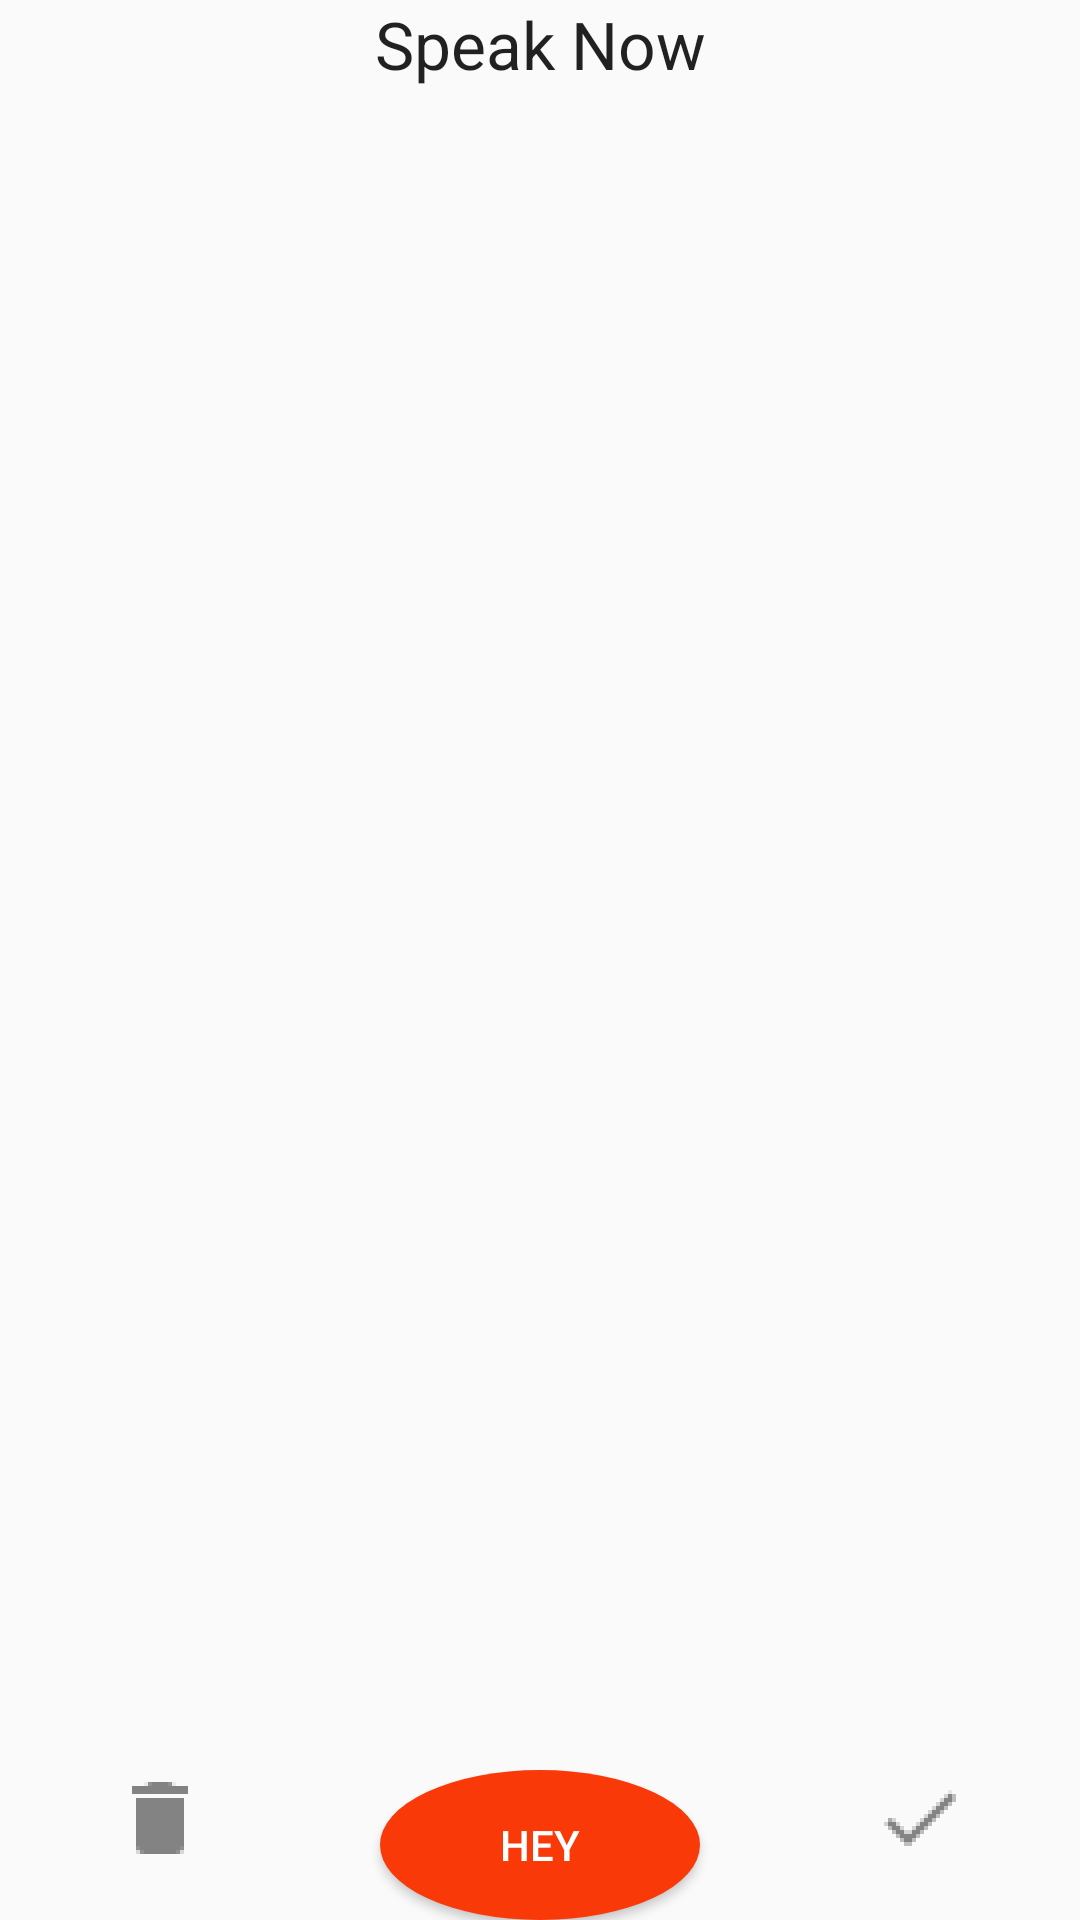

Named icons in this screenshot (1080px x 1920px) and their bounding boxes, rect(x1, y1, x2, y2):
check: rect(884, 1794, 956, 1846)
